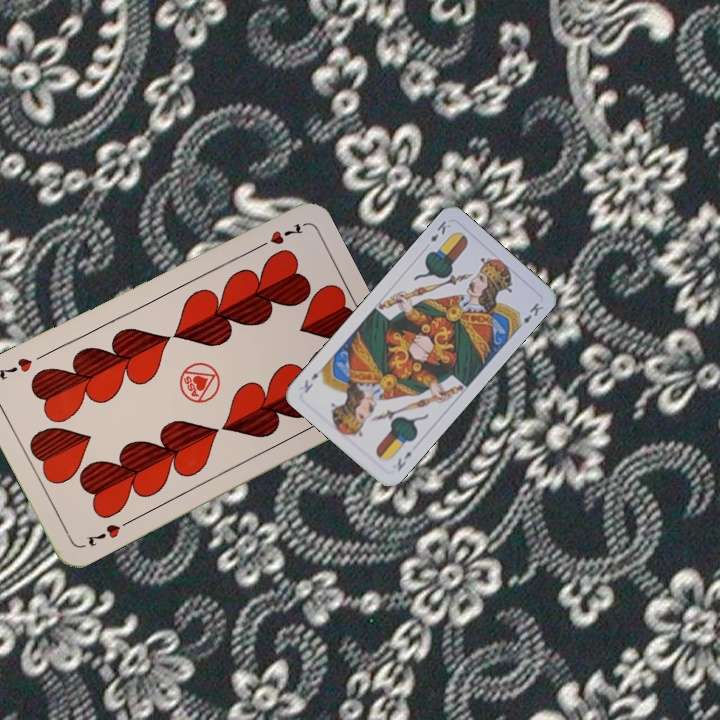EK: (426, 217, 454, 245), (393, 447, 414, 474)
H7: (251, 219, 306, 253), (84, 516, 133, 549)
